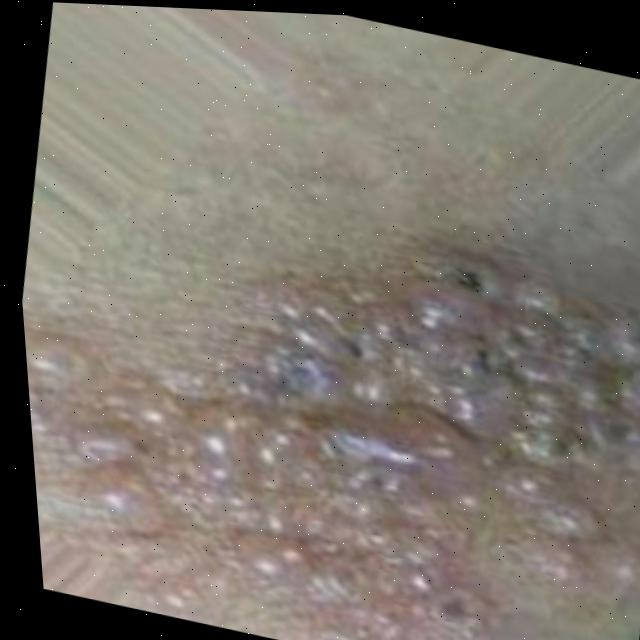Shingles: (11, 151, 640, 640)
